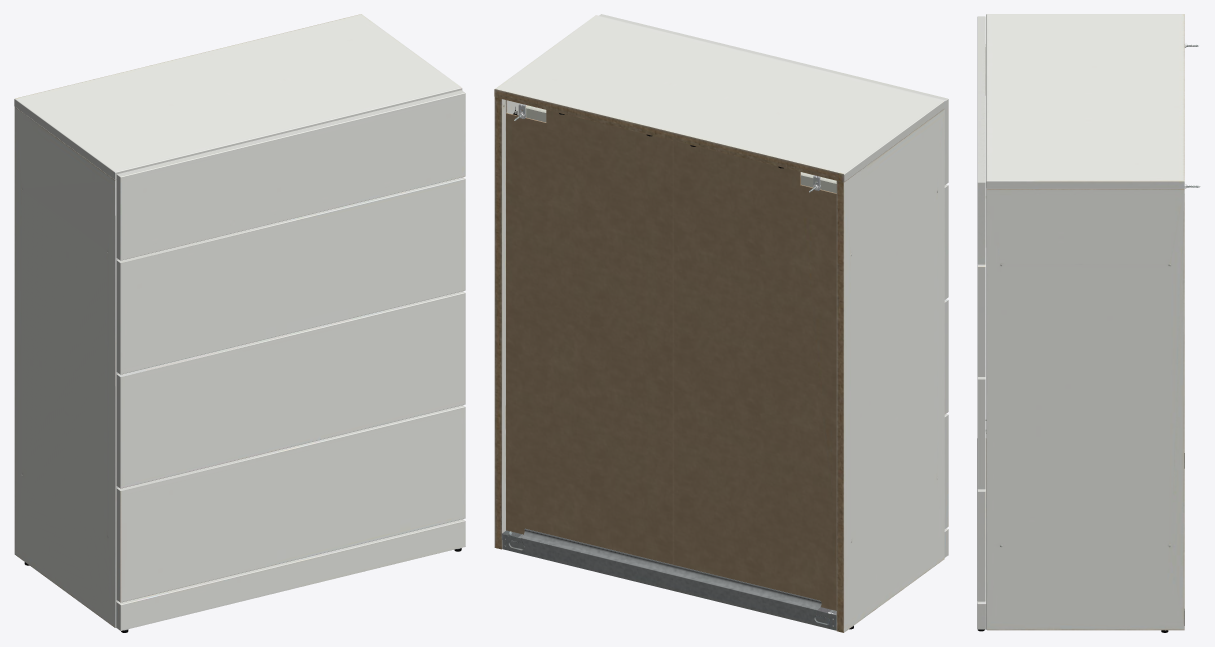
File: lastare_komoda_4_szuflady_60599350.glb
3 renders of one model, left to right at view 1: azimuth 30°, elevation 25°; view 2: azimuth 150°, elevation 25°; view 3: azimuth 270°, elevation 25°, orthographic. The views are drawn at different scales.
Visible parts, largest first — view 1: lastare_komoda_4_szuflady_60599350; view 2: lastare_komoda_4_szuflady_60599350; view 3: lastare_komoda_4_szuflady_60599350.
Boxes of the visible parts, bbox=[...] form: lastare_komoda_4_szuflady_60599350: bbox=[14, 14, 465, 632]; lastare_komoda_4_szuflady_60599350: bbox=[494, 14, 948, 632]; lastare_komoda_4_szuflady_60599350: bbox=[977, 14, 1200, 632].
Bounding box in the file's own units: 0.798 × 1.01 × 0.4505.
1 material, 1 textured.
